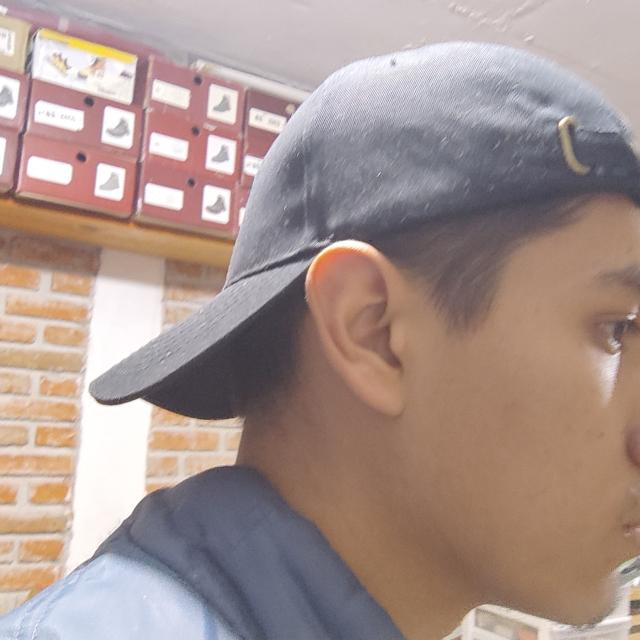ear: (305, 240, 417, 416)
